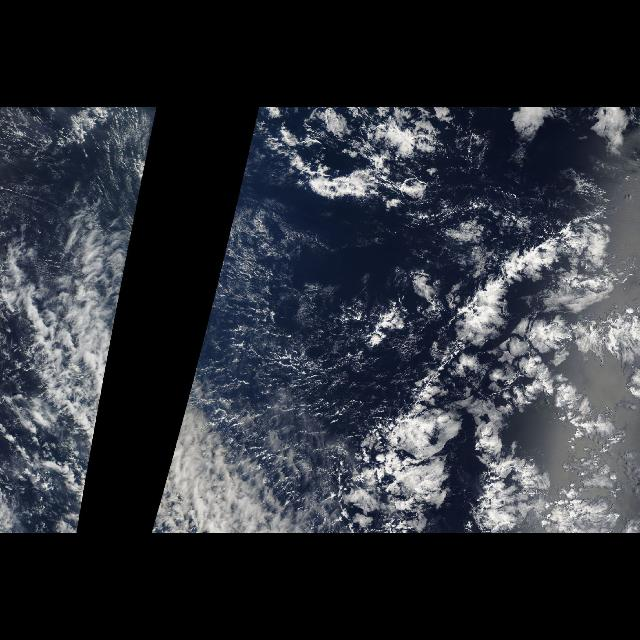Fish: (383, 193, 619, 533)
Sugar: (197, 207, 325, 437)
